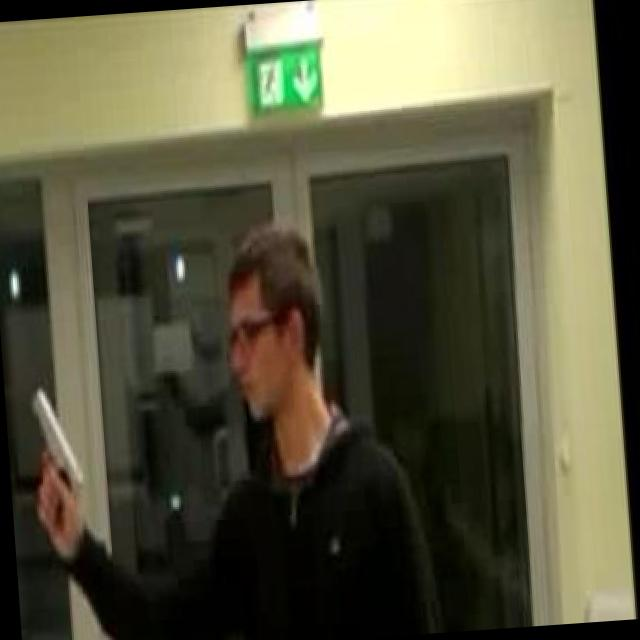Guns: (18, 370, 100, 524)
